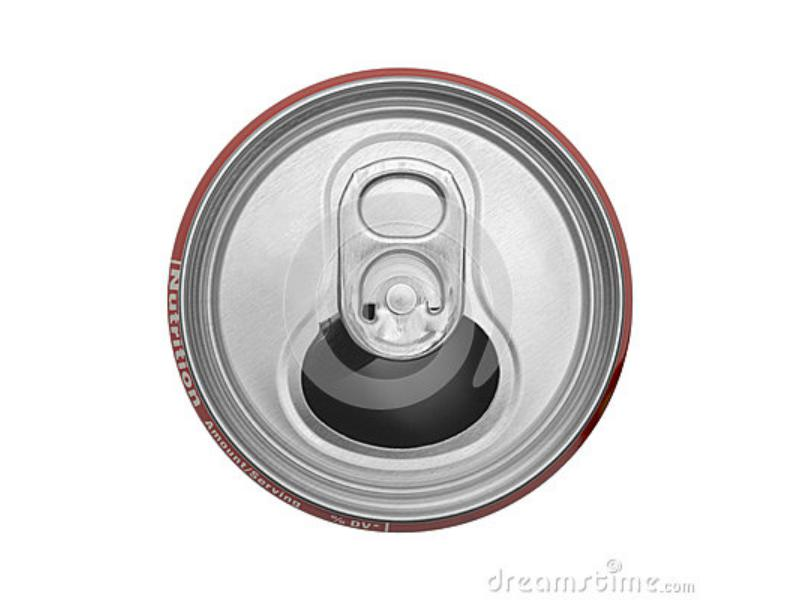can: (163, 62, 643, 543)
